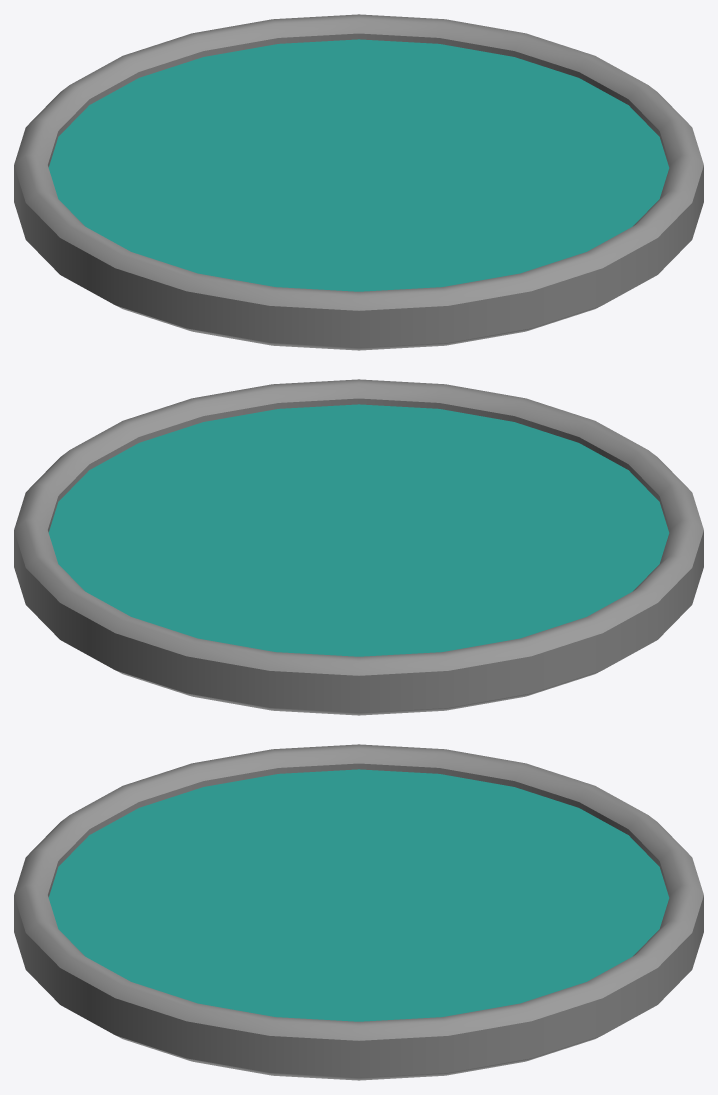
The model's file is Clock.FBX.
3 views of the same model, one above another, from view 1: azimuth 30°, elevation 25°; view 2: azimuth 150°, elevation 25°; view 3: azimuth 270°, elevation 25° (orthographic).
Visible parts, largest first — view 1: FrontGlass, Clock; view 2: FrontGlass, Clock; view 3: FrontGlass, Clock.
Boxes of the visible parts, x1,y1,x2,y2 form: FrontGlass: (48,39,669,291); Clock: (14,14,703,350); FrontGlass: (48,404,669,656); Clock: (14,379,703,715); FrontGlass: (48,769,669,1021); Clock: (14,744,703,1080).
Bounding box in the file's own units: 200 × 17.23 × 200.
